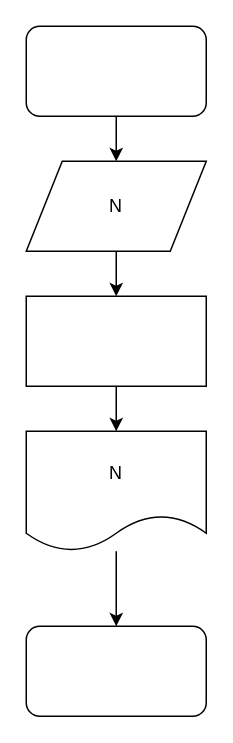
The diagram is 233 pixels wide and 743 high, and some of its shapes have lost their labels. The shapes that lost their labels are listed below. From the top down, each one's box as (x1, y1, x2, y2) in pixels, then its label:
(25, 25, 206, 116): INICIO
(25, 295, 206, 386): N<-N*N
